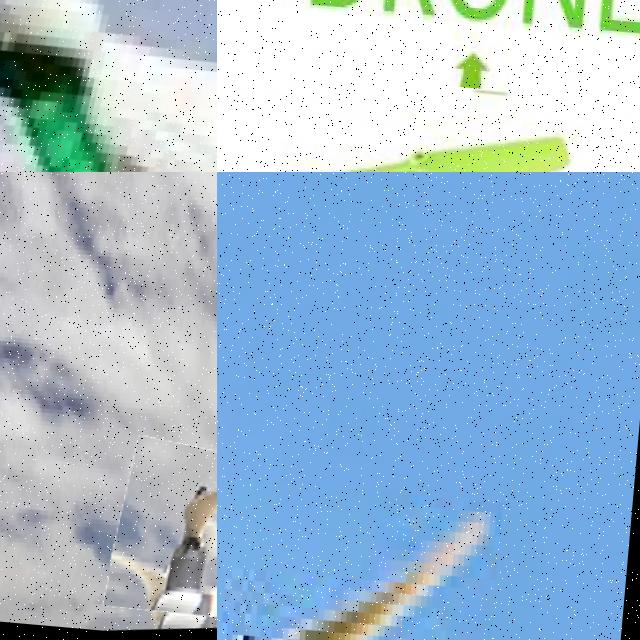drone: (217, 60, 640, 172), (0, 0, 217, 172), (103, 445, 217, 640)
